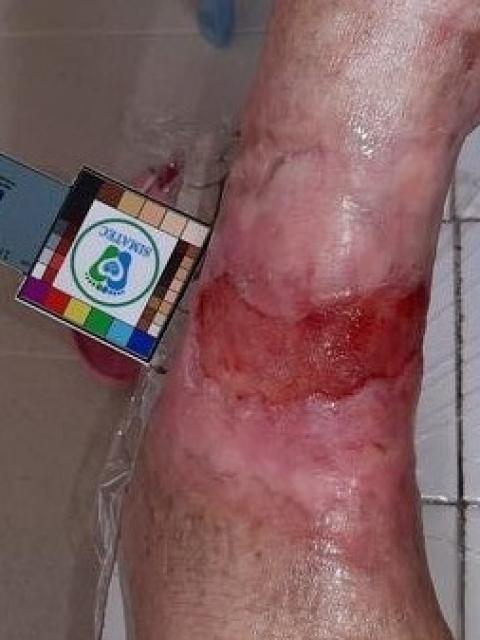wound: (192, 275, 429, 404)
